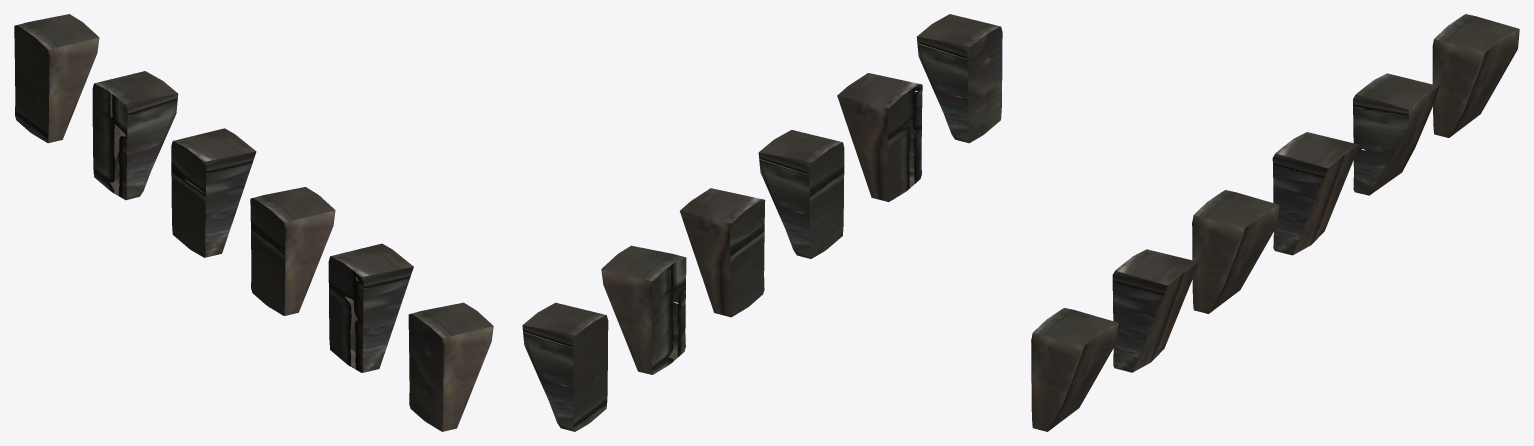
3 views of the same model, side by side, from view 1: azimuth 30°, elevation 25°; view 2: azimuth 150°, elevation 25°; view 3: azimuth 330°, elevation 25° (orthographic).
Visible parts, largest first — view 1: SM_Dowdun_Doorway_Insert_01_LOD0; view 2: SM_Dowdun_Doorway_Insert_01_LOD0; view 3: SM_Dowdun_Doorway_Insert_01_LOD0.
Part boxes in pixels (x1,y1,x2,y2): SM_Dowdun_Doorway_Insert_01_LOD0: (14, 14, 493, 431); SM_Dowdun_Doorway_Insert_01_LOD0: (522, 14, 1002, 431); SM_Dowdun_Doorway_Insert_01_LOD0: (1031, 14, 1519, 431).
Bounding box in the file's own units: 0.5176 × 0.9294 × 7.31.
